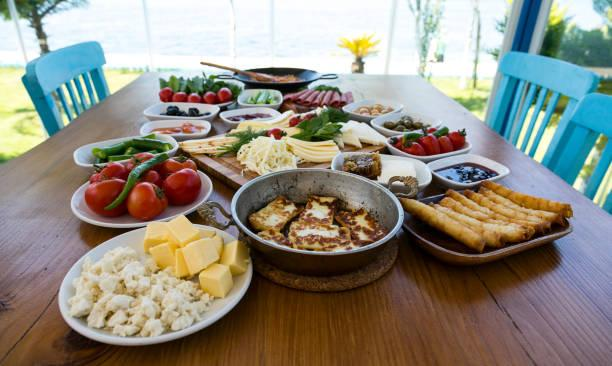Braised Crucian Carp: (56, 224, 248, 345), (224, 166, 407, 276), (396, 190, 570, 264), (71, 162, 210, 232)
